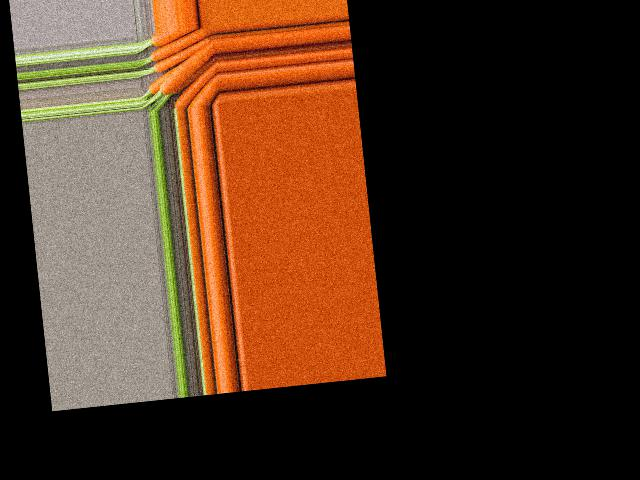carrot: (171, 67, 220, 108)
